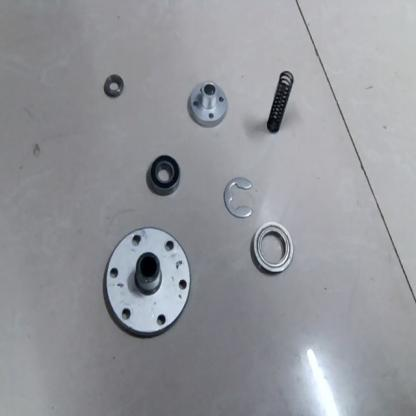FOD: (101, 225, 194, 338), (187, 75, 228, 132), (266, 66, 296, 142), (251, 222, 294, 275), (147, 149, 181, 198), (221, 170, 254, 220), (101, 70, 125, 96)
